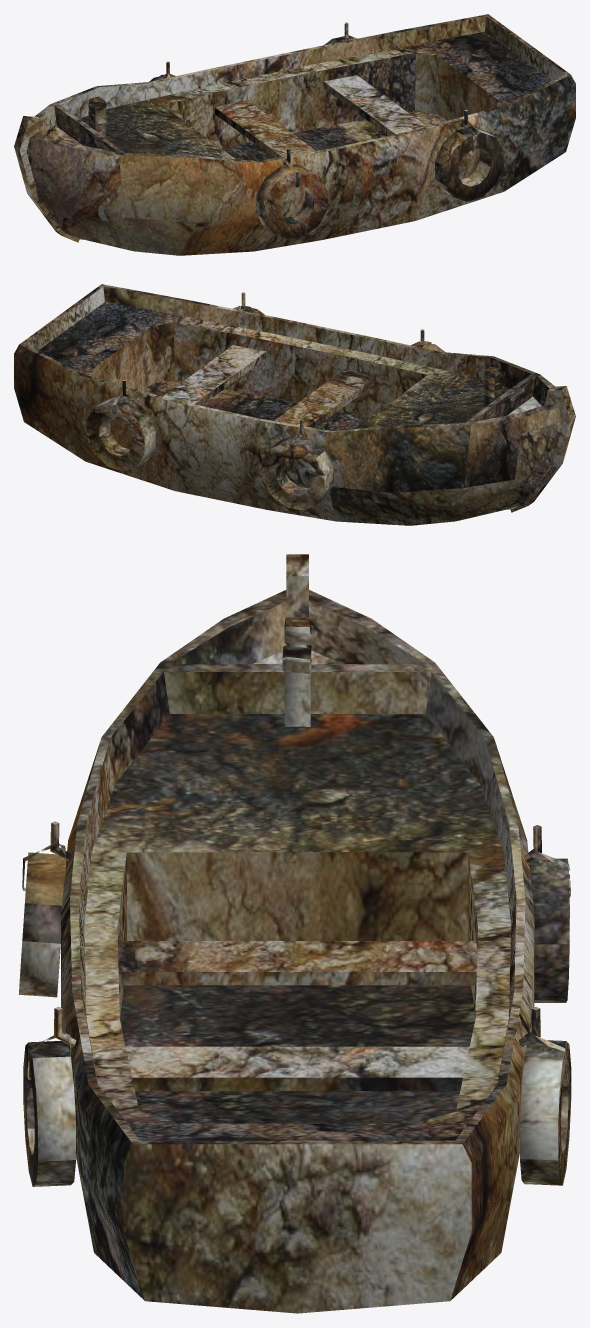
The model's file is ship.fbx.
3 renders of one model, top to bottom at view 1: azimuth 30°, elevation 25°; view 2: azimuth 150°, elevation 25°; view 3: azimuth 270°, elevation 25°, orthographic. The views are drawn at different scales.
Parts seen in each view (by area): view 1: Small_Wooden_Boat; view 2: Small_Wooden_Boat; view 3: Small_Wooden_Boat.
Boxes of the visible parts, <box> form: Small_Wooden_Boat: <box>14,14,575,255</box>; Small_Wooden_Boat: <box>14,284,575,525</box>; Small_Wooden_Boat: <box>18,554,571,1313</box>.
Size of the model in its own units: 1095 by 315 by 508.
